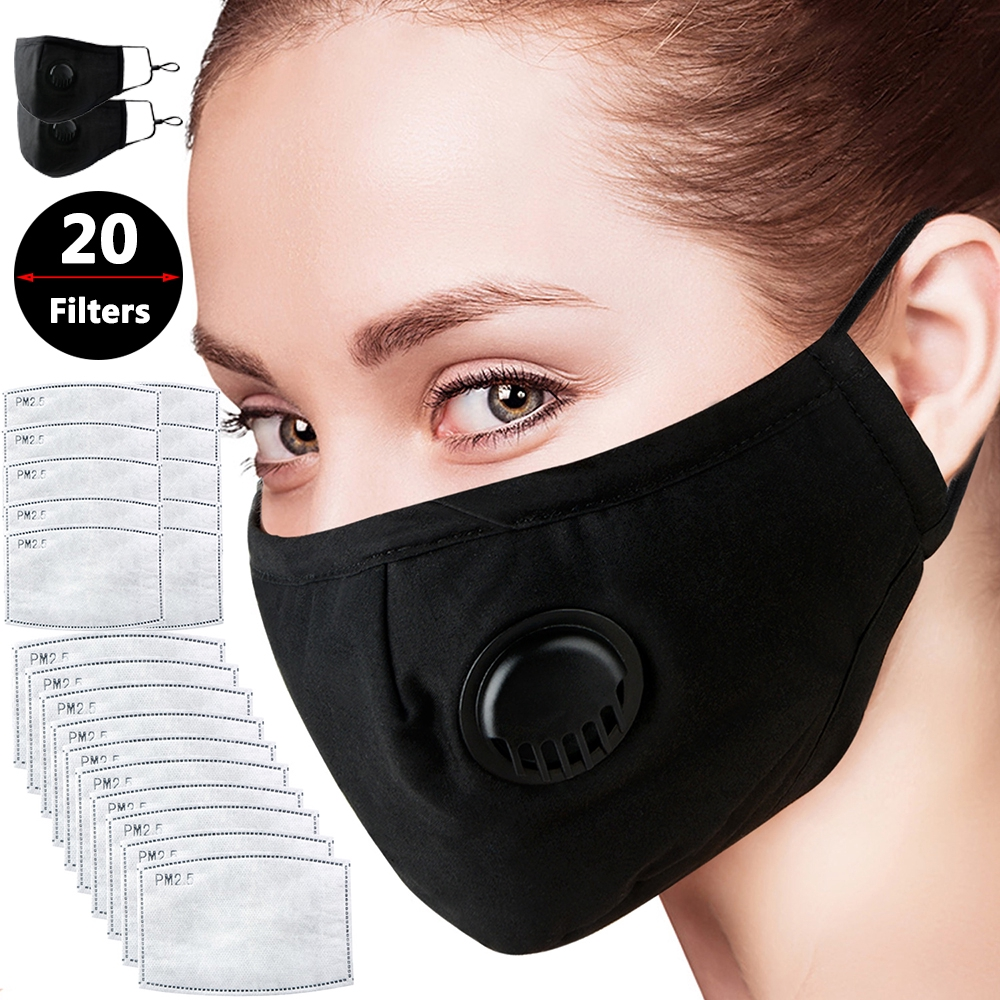Mask: (170, 20, 979, 973)
